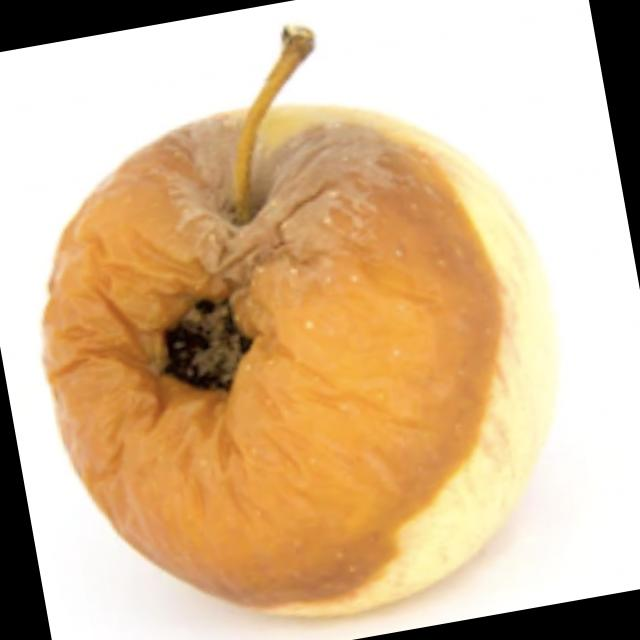rotten_apple: (8, 20, 598, 640)
